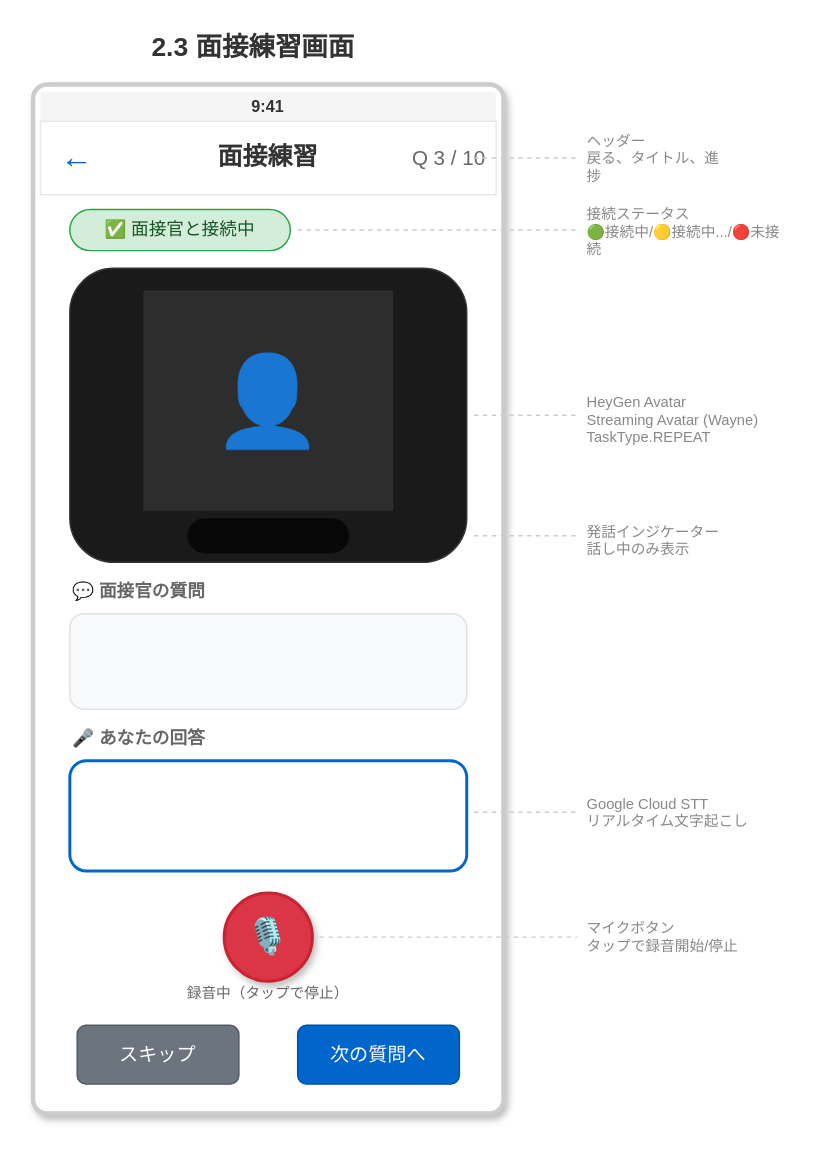
This 816x1151 diagram has some shape labels left out. The centre of each missing label's shape, as x and y in pixels:
「それでは、まず自己紹介を お願いできますか？」: [267,660]
はい、私は〇〇と申します。 前職ではエンジニアとして システム開発に携わって...: [267,815]
🎙️ 話し中...: [267,535]
